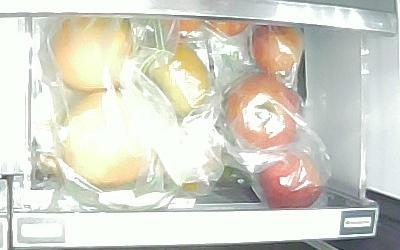apple_vinyl: (223, 75, 302, 150), (254, 152, 326, 210)
grapefruit_vinyl: (64, 91, 161, 186), (51, 13, 137, 93)
persimmon_vinyl: (150, 44, 211, 114)
prune_vinyl: (251, 23, 303, 78)
